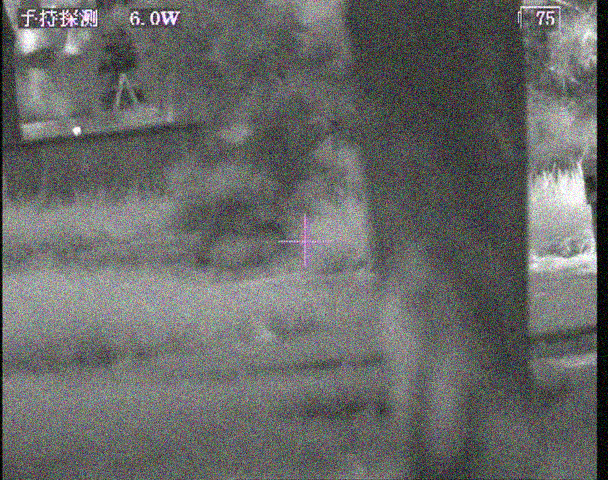my: (71, 125, 82, 137)
